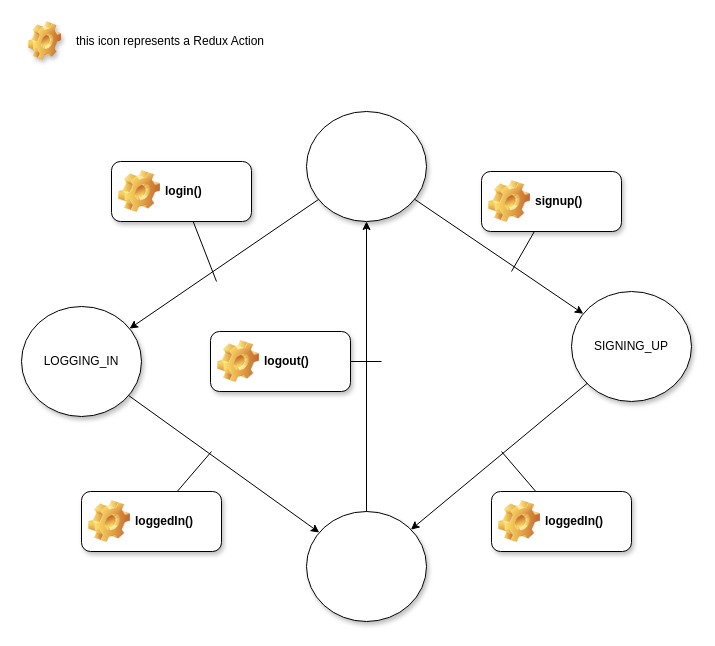
This 715x646 diagram has some shape labels left out. Here are the shapes that lost their labels. From the top down, the centre of each, then its label:
At [367,167]: "LOGGED_OUT".
At [367,567]: "LOGGED_IN".
